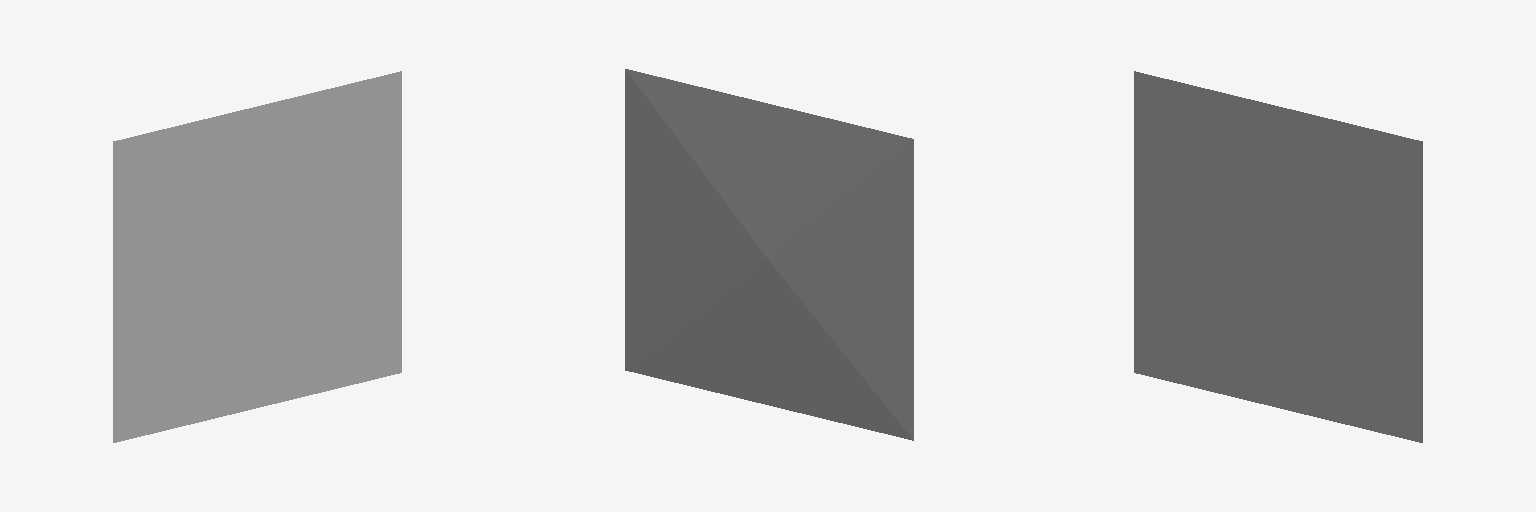
File: ground2p.obj
The picture shows the model from 3 angles: view 1: azimuth 30°, elevation 25°; view 2: azimuth 150°, elevation 25°; view 3: azimuth 330°, elevation 25°; orthographic projection.
Parts seen in each view (by area): view 1: Ground5.001, Ground.002, Ground.003, Ground2.001, Ground2.003, Ground5.003, Ground11.001, Ground11.003, Ground6, Ground12, Ground14, Ground2.002 (+28 smaller); view 2: Bottom; view 3: Ground10, Ground9, Ground15, Ground16, Ground9.002, Ground10.002, Ground15.001, Ground16.001, Ground2, Ground4, Ground7, Ground12 (+28 smaller).
Part boxes in pixels (left/top/right/bottom): Ground5.001: left=149, top=388, right=185, bottom=434; Ground.002: left=149, top=124, right=185, bottom=169; Ground.003: left=149, top=162, right=185, bottom=207; Ground2.001: left=149, top=275, right=185, bottom=320; Ground2.003: left=149, top=313, right=185, bottom=358; Ground5.003: left=149, top=350, right=185, bottom=396; Ground11.001: left=149, top=237, right=185, bottom=283; Ground11.003: left=149, top=199, right=185, bottom=245; Ground6: left=186, top=304, right=221, bottom=349; Ground12: left=186, top=153, right=221, bottom=198; Ground14: left=258, top=211, right=293, bottom=256; Ground2.002: left=113, top=284, right=148, bottom=329; Bottom: left=625, top=69, right=913, bottom=440; Ground10: left=1350, top=388, right=1386, bottom=434; Ground9: left=1350, top=313, right=1386, bottom=358; Ground15: left=1350, top=162, right=1386, bottom=207; Ground16: left=1350, top=237, right=1386, bottom=283; Ground9.002: left=1350, top=275, right=1386, bottom=320; Ground10.002: left=1350, top=350, right=1386, bottom=396; Ground15.001: left=1350, top=124, right=1386, bottom=169; Ground16.001: left=1350, top=199, right=1386, bottom=245; Ground2: left=1134, top=260, right=1169, bottom=305; Ground4: left=1278, top=257, right=1313, bottom=303; Ground7: left=1206, top=353, right=1241, bottom=398; Ground12: left=1206, top=126, right=1241, bottom=172.
Size of the model in its own units: 1000 by 1000 by 19.73.